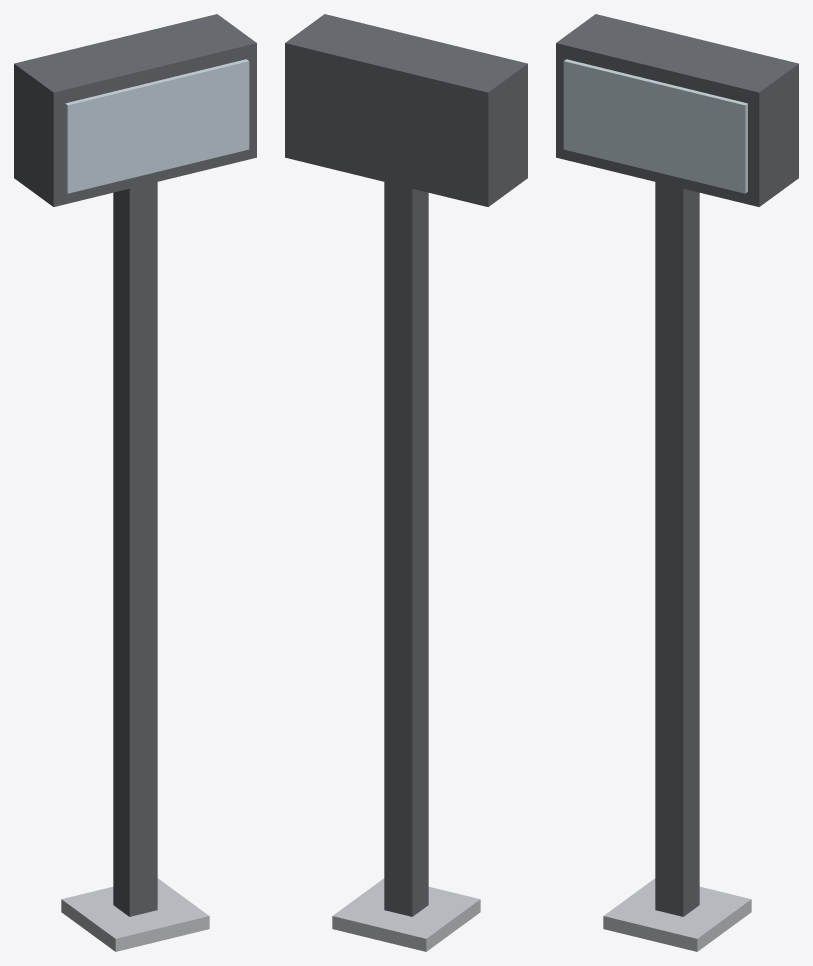
File: bank-vault-heist-kit-floodlight-0da24859__25114.glb
3 views of the same model, side by side, from view 1: azimuth 30°, elevation 25°; view 2: azimuth 150°, elevation 25°; view 3: azimuth 330°, elevation 25° (orthographic).
Visible parts, largest first — view 1: floodlight; view 2: floodlight; view 3: floodlight.
Boxes of the visible parts, <box> form: floodlight: <box>14,14,256,951</box>; floodlight: <box>285,14,527,951</box>; floodlight: <box>556,14,798,951</box>.
Size of the model in its own units: 0.65 by 2.65 by 0.3.
